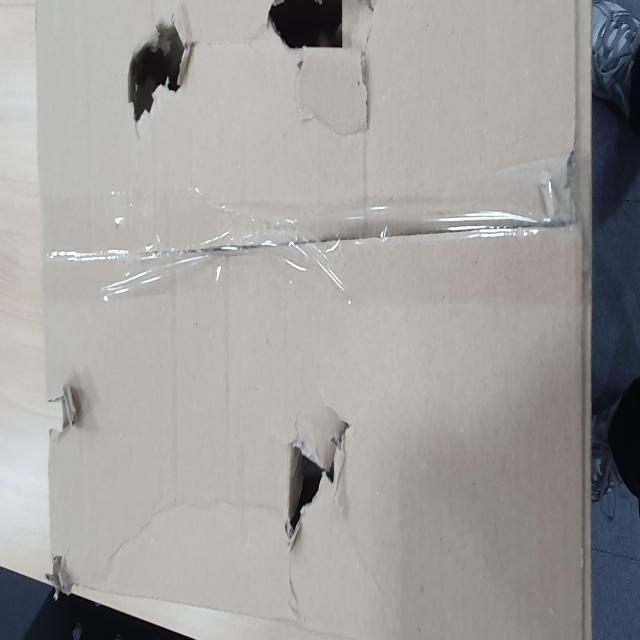damaged: (42, 504, 133, 616), (275, 220, 355, 338), (320, 472, 360, 619)
